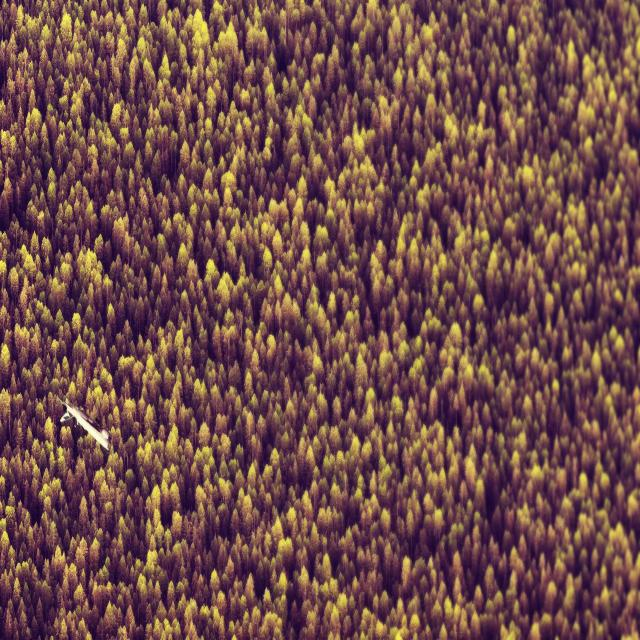airplane: (56, 394, 110, 452)
